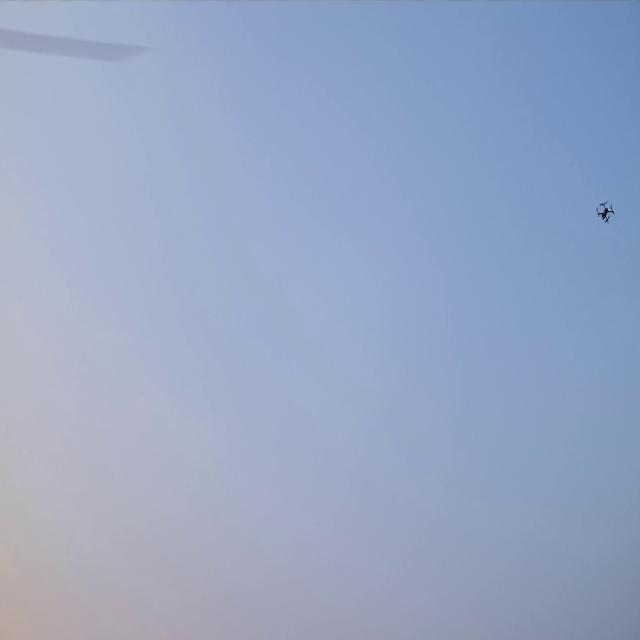UAV: (598, 203, 613, 221)
